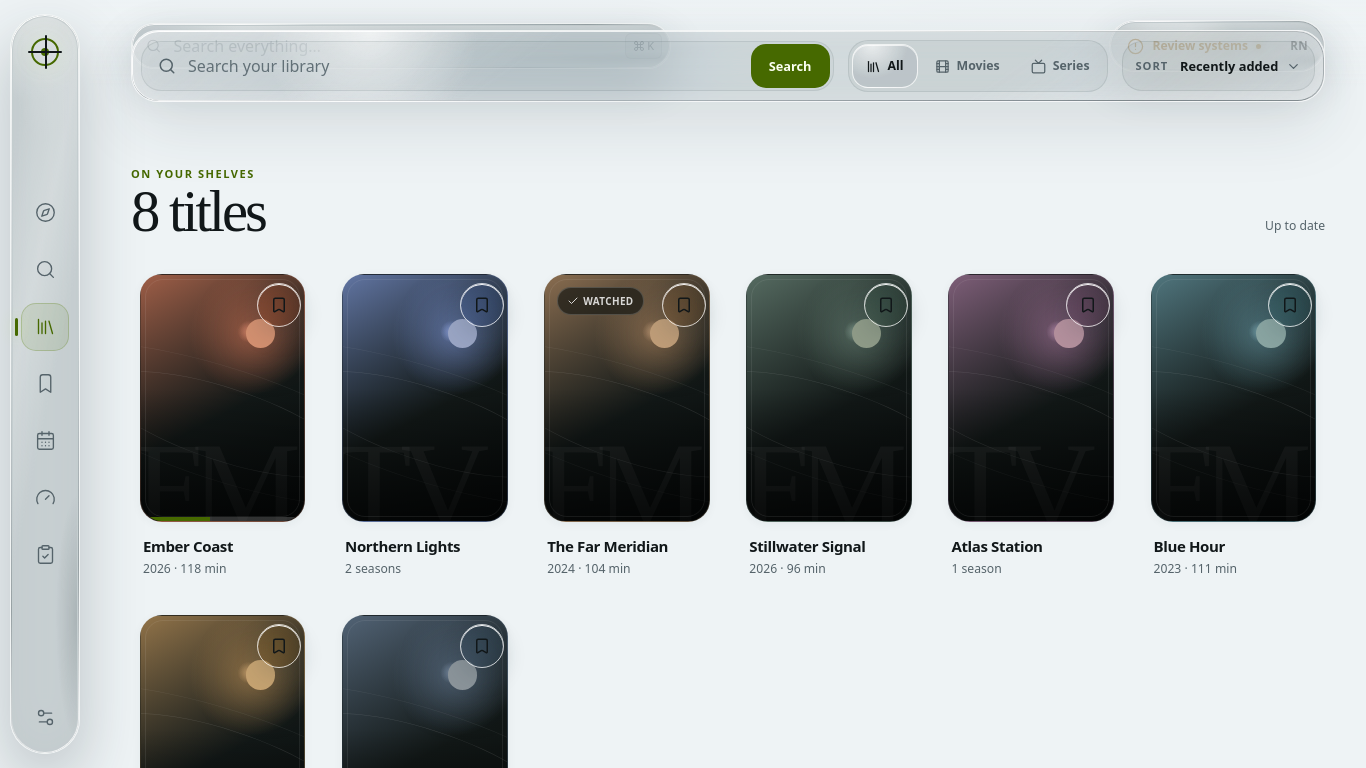
MediaLibrary › updates saved Jellyfin progress separately from one-time playback position
(page scrolled)
Click the button with aria-label "View details for Ember Coast": click(223, 426) [134,272,312,580]
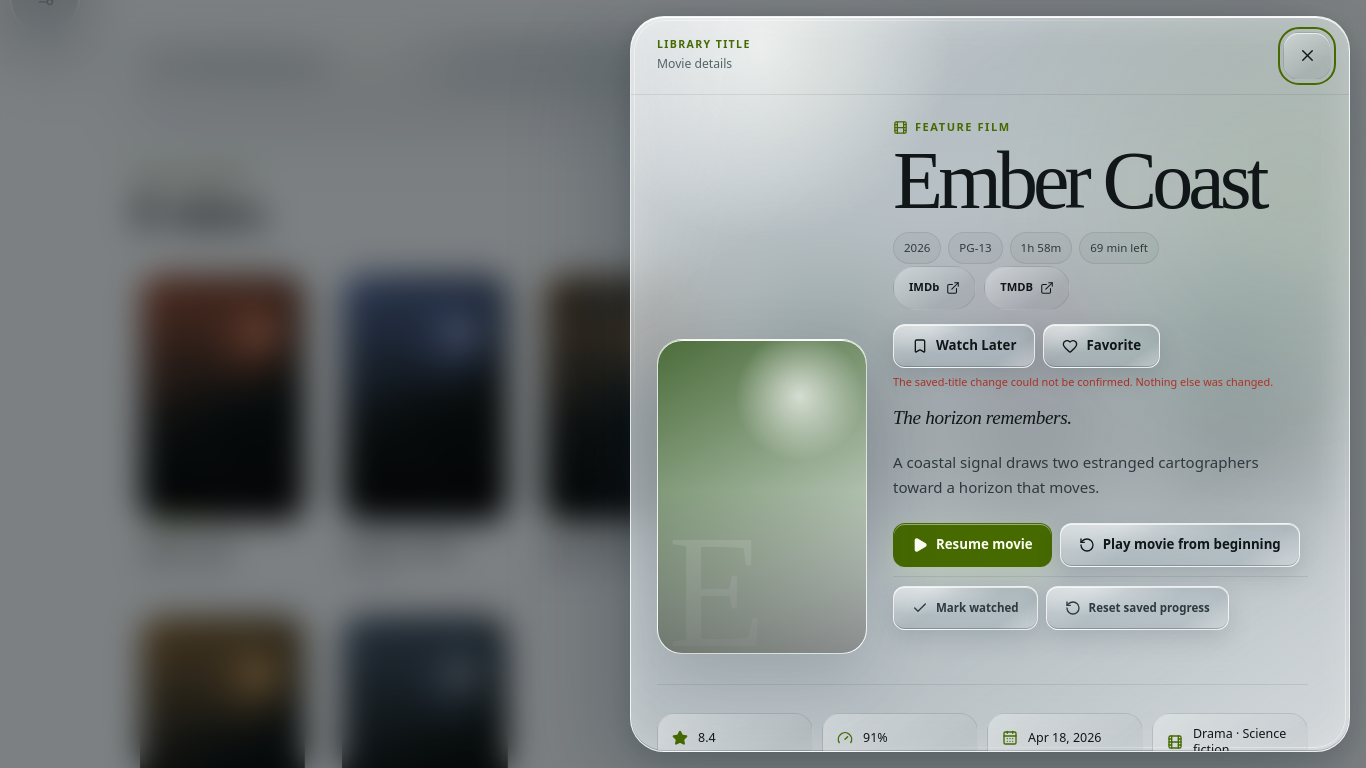
Expected: the button "Play movie from beginning" is shown, [1060,523,1300,567]
Click the button "Reset saved progress": click(1137, 608) [1046,586,1229,630]
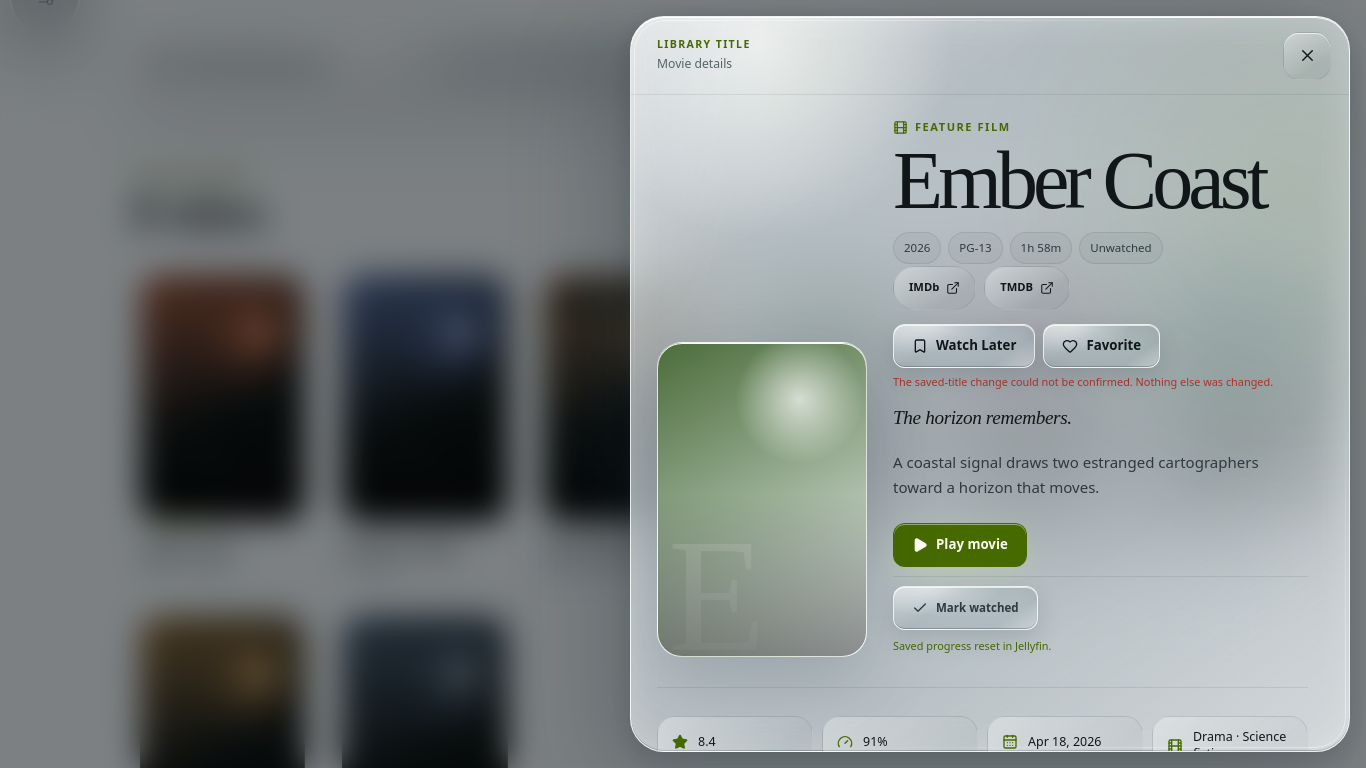
Expected: the text "Saved progress reset in Jellyfin." is shown, [893,638,1051,653]
Expected: the button "Play movie" is shown, [893,523,1027,567]
Expected: the button "Play movie from beginning" is gone
